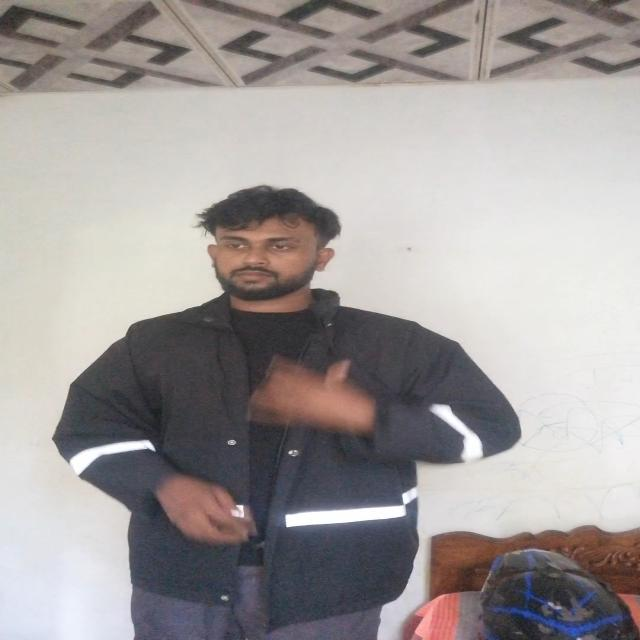Jacket_Wearer: (52, 294, 511, 628)
Person: (52, 180, 514, 640)
